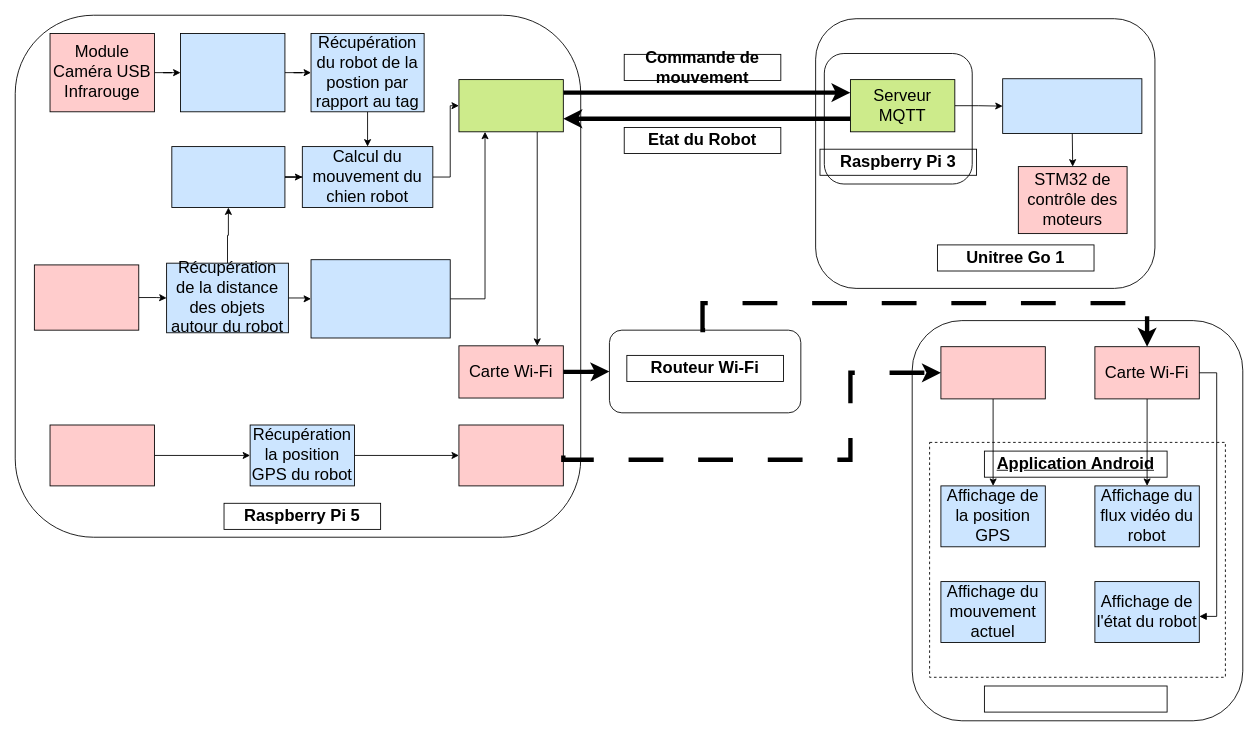
Some shapes in this 1258 by 736 pixel diagram are drawn without their labels. The shapes that lost their labels are listed below. From the top down, each one's centre as x and y in pixels, then its label:
At [232,72]: "Détection des tags Aruco via OpenCV".
At [510,105]: "Client MQTT".
At [1072,106]: "Traitement de la commande de mouvement".
At [228,176]: "Calcul du compensement de la position".
At [86,297]: "RP Lidar A2".
At [380,298]: "Choix de la commande du robot (arrêt ou marche)".
At [992,372]: "Carte SIM".
At [101,455]: "Module GPS".
At [510,455]: "Module SIM".
At [1075,698]: "Téléphone Client".
